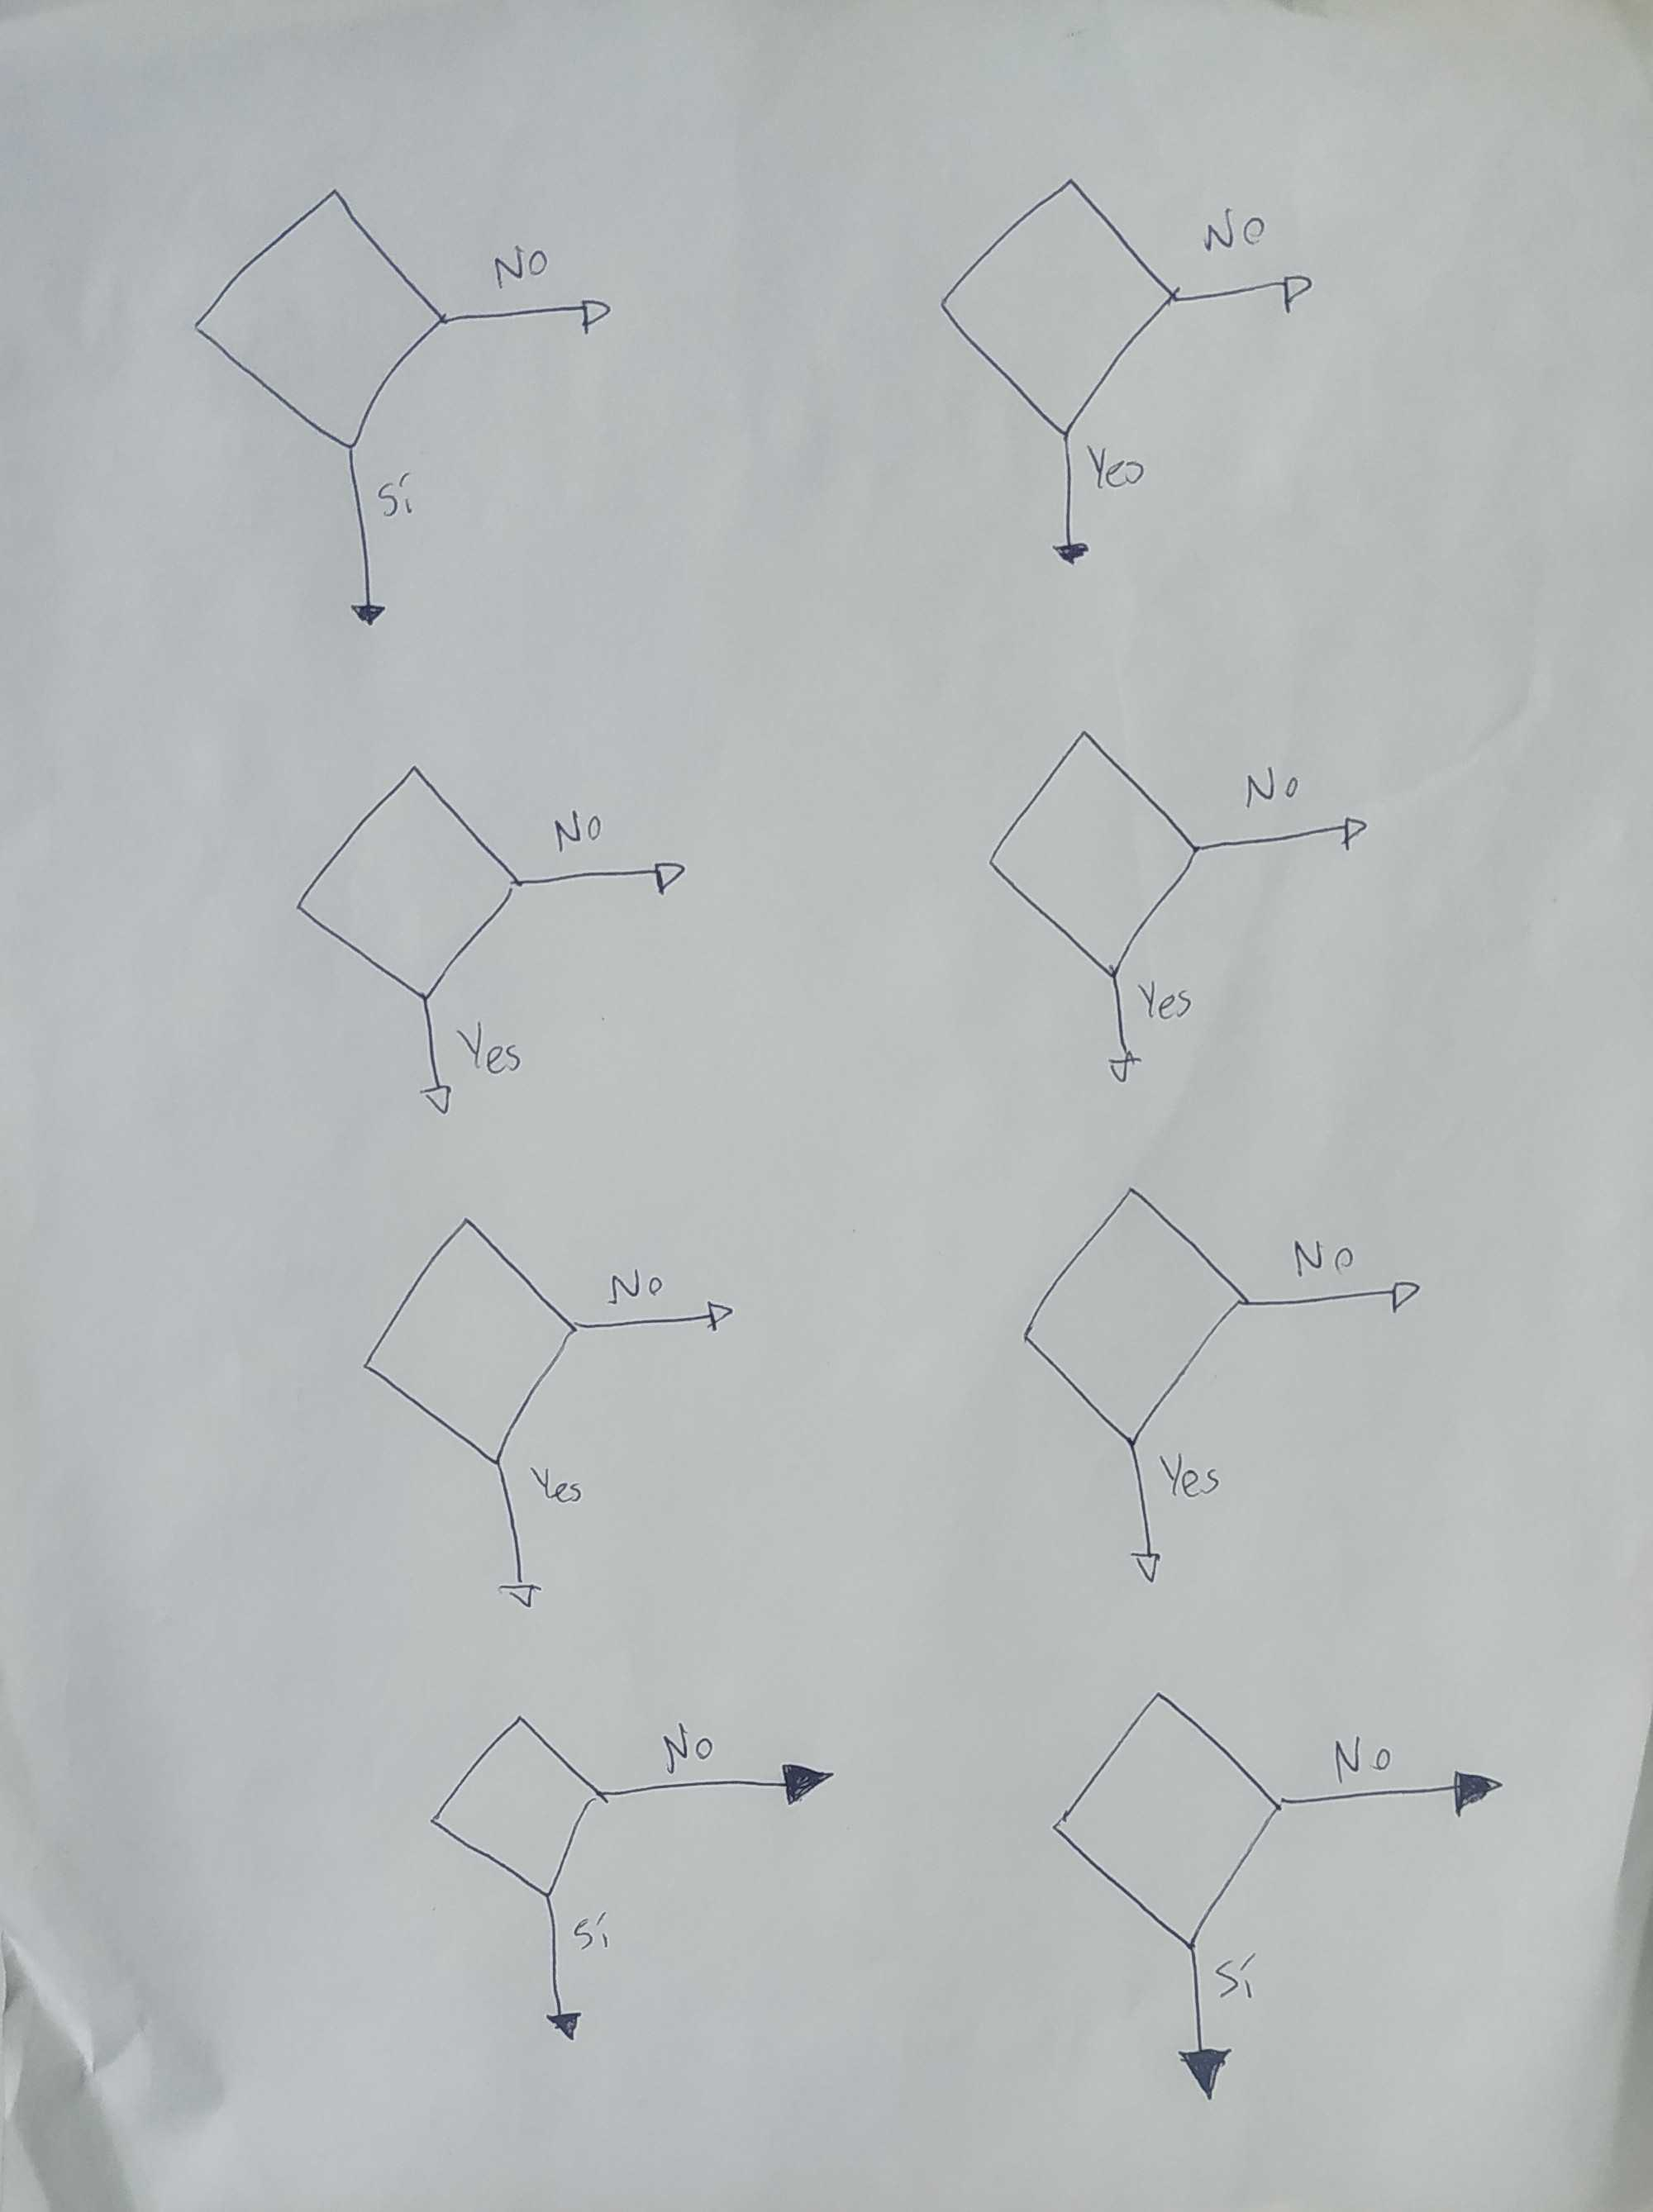arrow_line_down: (328, 444, 401, 632), (1169, 1939, 1247, 2111), (477, 1457, 550, 1622), (524, 1889, 592, 2052), (1116, 1441, 1174, 1594), (1045, 431, 1097, 576), (406, 993, 465, 1120), (1092, 972, 1153, 1090)
arrow_line_right: (1271, 1759, 1511, 1827), (597, 1754, 840, 1818), (1238, 1262, 1431, 1333), (1193, 804, 1382, 868), (516, 842, 693, 908), (438, 281, 613, 344), (568, 1290, 741, 1347), (1169, 271, 1321, 323)
decision: (179, 174, 453, 455), (924, 161, 1189, 446), (1040, 1675, 1287, 1955), (1011, 1174, 1257, 1448), (344, 1196, 585, 1474), (981, 719, 1210, 986), (283, 754, 524, 1000), (417, 1703, 616, 1905)
